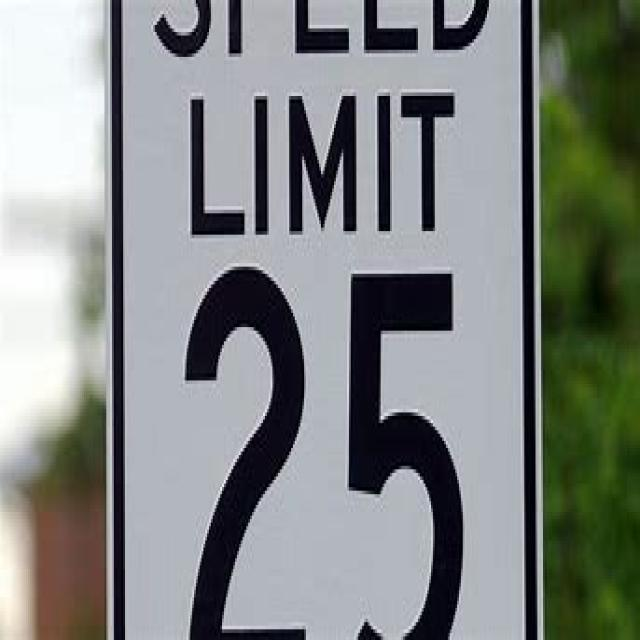speedLimit25: (107, 9, 538, 631)
